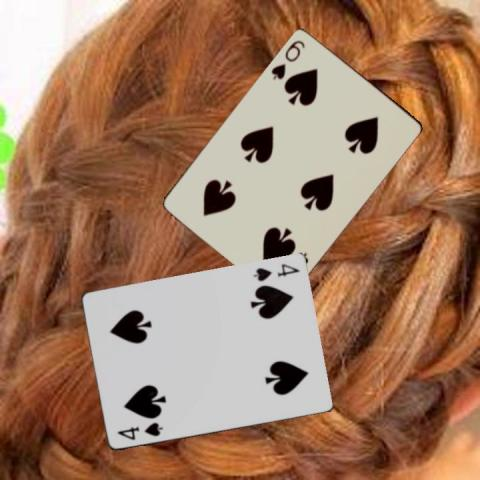4s: (249, 262, 301, 284), (114, 420, 164, 442)
6s: (268, 36, 307, 81)
